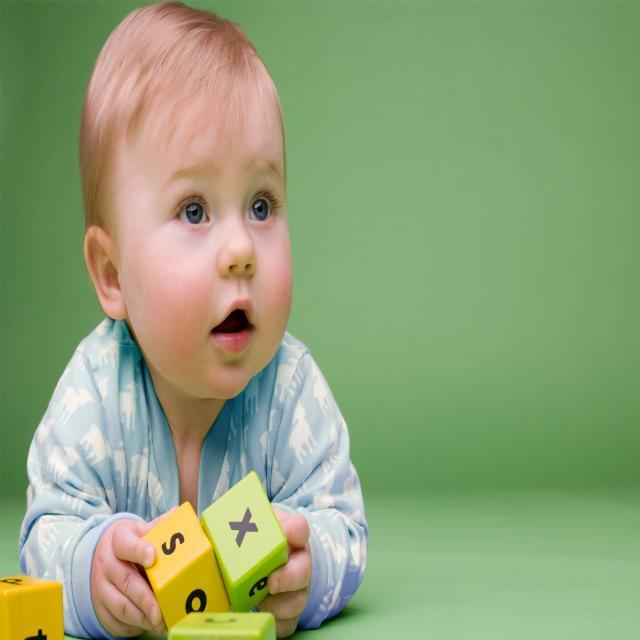non-dog: (10, 3, 378, 640)
